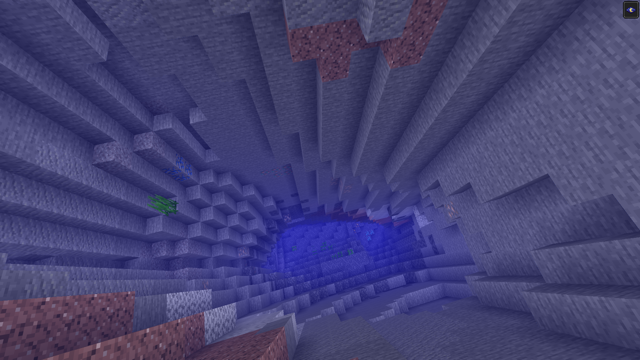copper: (257, 165, 291, 177)
diamond: (365, 228, 375, 242)
iron: (441, 200, 459, 220), (236, 245, 250, 258), (342, 183, 351, 196), (283, 212, 291, 222)
lapis: (165, 153, 193, 181)
